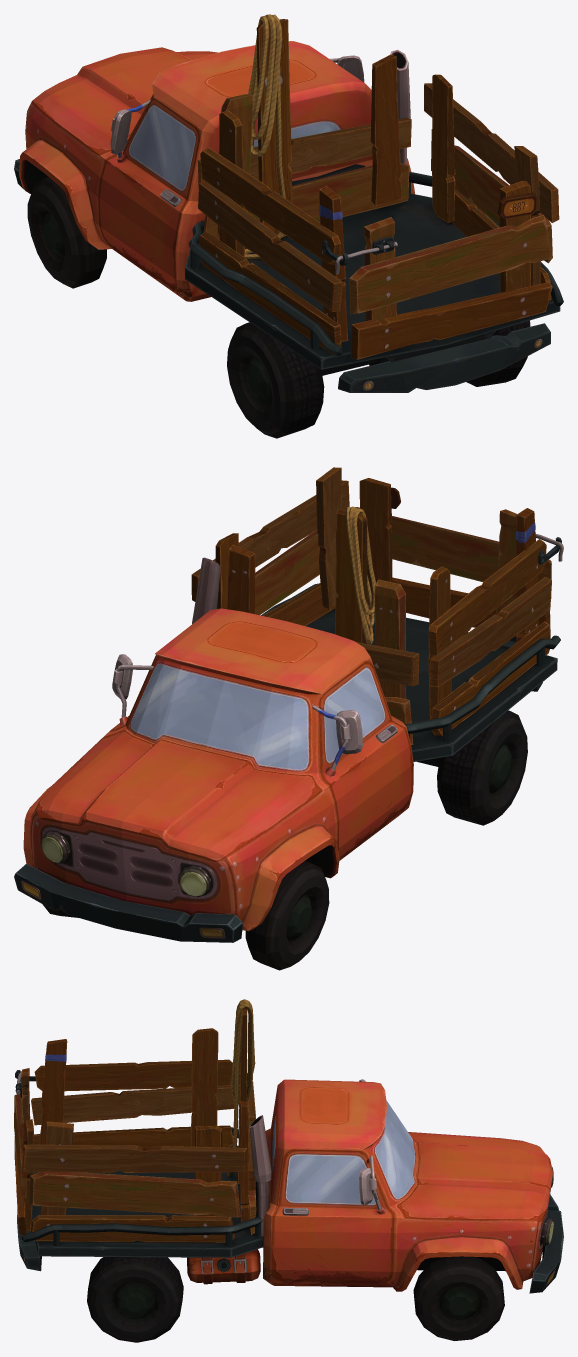
Rendered from farm-truck.glb.
3 views of the same model, one above another, from view 1: azimuth 30°, elevation 25°; view 2: azimuth 150°, elevation 25°; view 3: azimuth 270°, elevation 25° (orthographic). The views are drawn at different scales.
Parts seen in each view (by area): view 1: body, wheel-rear-left, wheel-front-left, wheel-rear-right; view 2: body, wheel-rear-left, wheel-front-left; view 3: body, wheel-rear-right, wheel-front-right.
Boxes of the visible parts, box(x1,y1,x2,y2) form: body: box(14, 14, 563, 392); wheel-rear-left: box(227, 322, 324, 438); wheel-front-left: box(27, 177, 106, 288); wheel-rear-right: box(466, 320, 530, 386); body: box(14, 467, 563, 942); wheel-rear-left: box(437, 710, 527, 825); wheel-front-left: box(245, 861, 329, 970); body: box(14, 999, 563, 1293); wheel-rear-right: box(87, 1257, 183, 1342); wheel-front-right: box(413, 1256, 504, 1340).
Size of the model in its own units: 2.25 by 2.81 by 5.
Materials: 1 (1 with a texture image).
